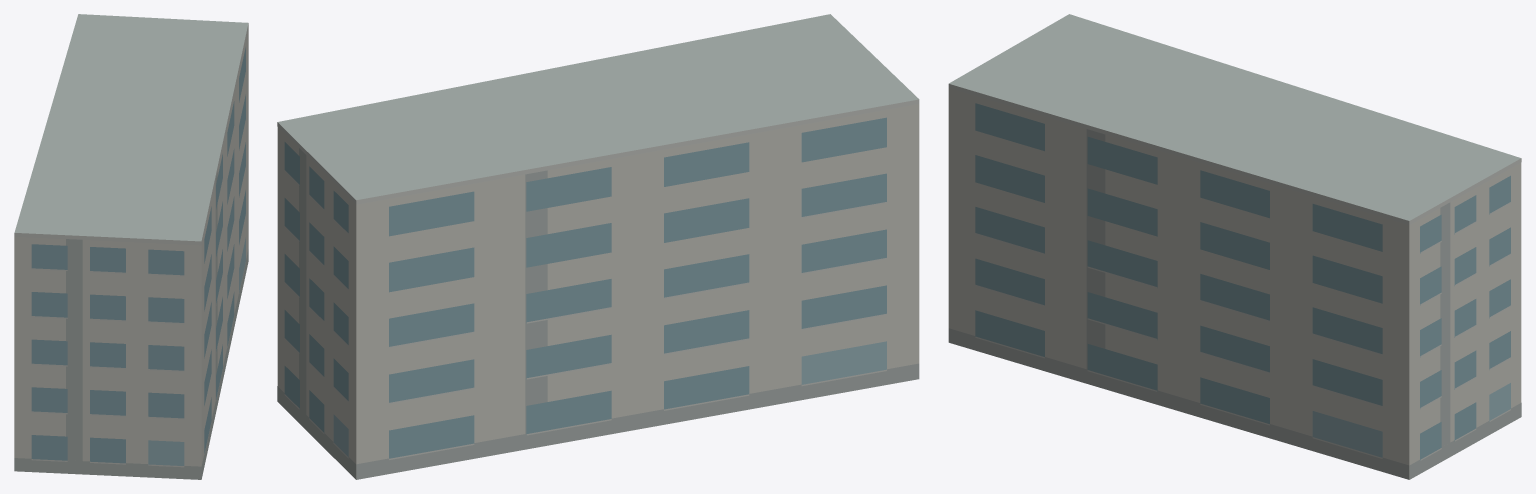
The model's file is survey-upis-32766860.glb.
3 views of the same model, side by side, from view 1: azimuth 30°, elevation 25°; view 2: azimuth 150°, elevation 25°; view 3: azimuth 270°, elevation 25° (orthographic). The views are drawn at different scales.
Visible parts, largest first — view 1: survey-upis-32766860.tmp; view 2: survey-upis-32766860.tmp; view 3: survey-upis-32766860.tmp.
Boxes of the visible parts, left/top/right/bottom form: survey-upis-32766860.tmp: left=14, top=14, right=248, bottom=479; survey-upis-32766860.tmp: left=277, top=14, right=919, bottom=479; survey-upis-32766860.tmp: left=948, top=14, right=1521, bottom=479.
Bounding box in the file's own units: 26.16 × 15.25 × 30.59.
